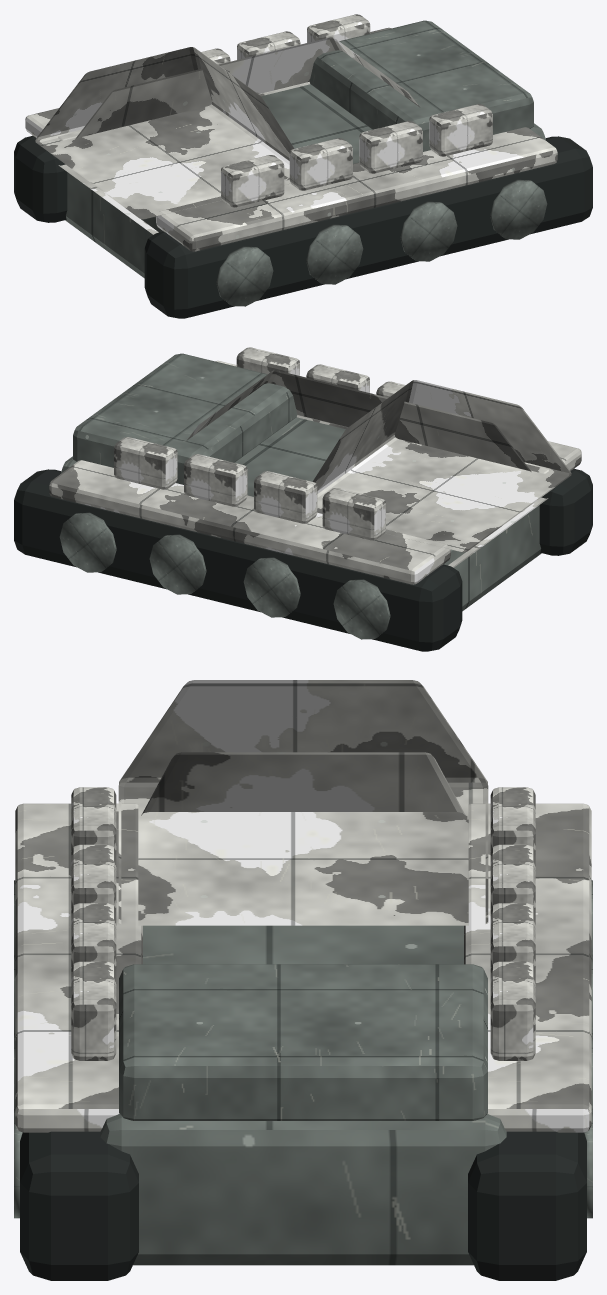
The model's file is heavy_tank_body.glb.
3 renders of one model, top to bottom at view 1: azimuth 30°, elevation 25°; view 2: azimuth 150°, elevation 25°; view 3: azimuth 270°, elevation 25°, orthographic. The views are drawn at different scales.
Parts seen in each view (by area): view 1: heavy_tank_body_factory_metal, heavy_tank_body_team_primary, heavy_tank_body_team_accent, heavy_tank_body_rubber; view 2: heavy_tank_body_factory_metal, heavy_tank_body_team_primary, heavy_tank_body_team_accent, heavy_tank_body_rubber; view 3: heavy_tank_body_factory_metal, heavy_tank_body_team_primary, heavy_tank_body_team_accent, heavy_tank_body_rubber.
Boxes of the visible parts, x1,y1,x2,y2 form: heavy_tank_body_factory_metal: (65, 20, 547, 306); heavy_tank_body_team_primary: (35, 37, 420, 234); heavy_tank_body_team_accent: (25, 14, 557, 251); heavy_tank_body_rubber: (14, 135, 592, 318); heavy_tank_body_factory_metal: (59, 353, 541, 639); heavy_tank_body_team_primary: (186, 370, 571, 567); heavy_tank_body_team_accent: (49, 347, 581, 584); heavy_tank_body_rubber: (14, 468, 592, 651); heavy_tank_body_factory_metal: (14, 880, 592, 1265); heavy_tank_body_team_primary: (118, 680, 488, 925); heavy_tank_body_team_accent: (15, 787, 591, 1132); heavy_tank_body_rubber: (20, 1131, 586, 1280).
Size of the model in its own units: 3.52 by 1.3 by 2.4.
Materials: 4 (3 with a texture image).
